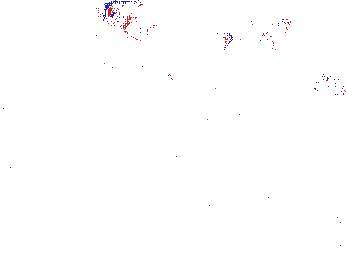X-ray fish: (94, 1, 163, 41)
glassfish: (187, 100, 265, 139)
redtail glassfish: (215, 16, 294, 52), (254, 60, 318, 96), (102, 56, 177, 86)
